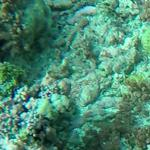dead: (5, 13, 146, 147)
